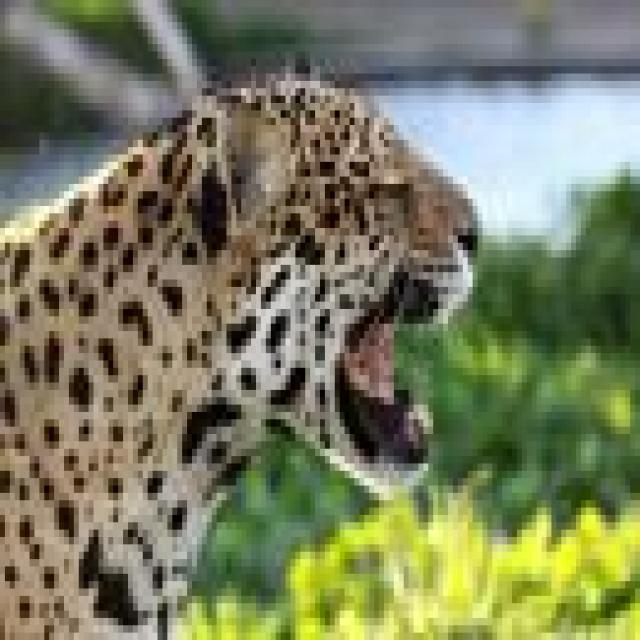Leopard: (0, 58, 482, 625)
